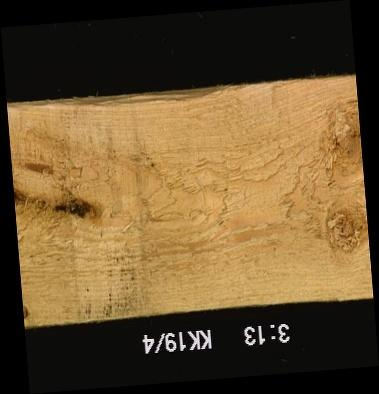dry_knot: (22, 303, 29, 320)
sound_knot: (309, 96, 360, 193), (323, 203, 367, 255)
wave: (7, 91, 249, 122)
